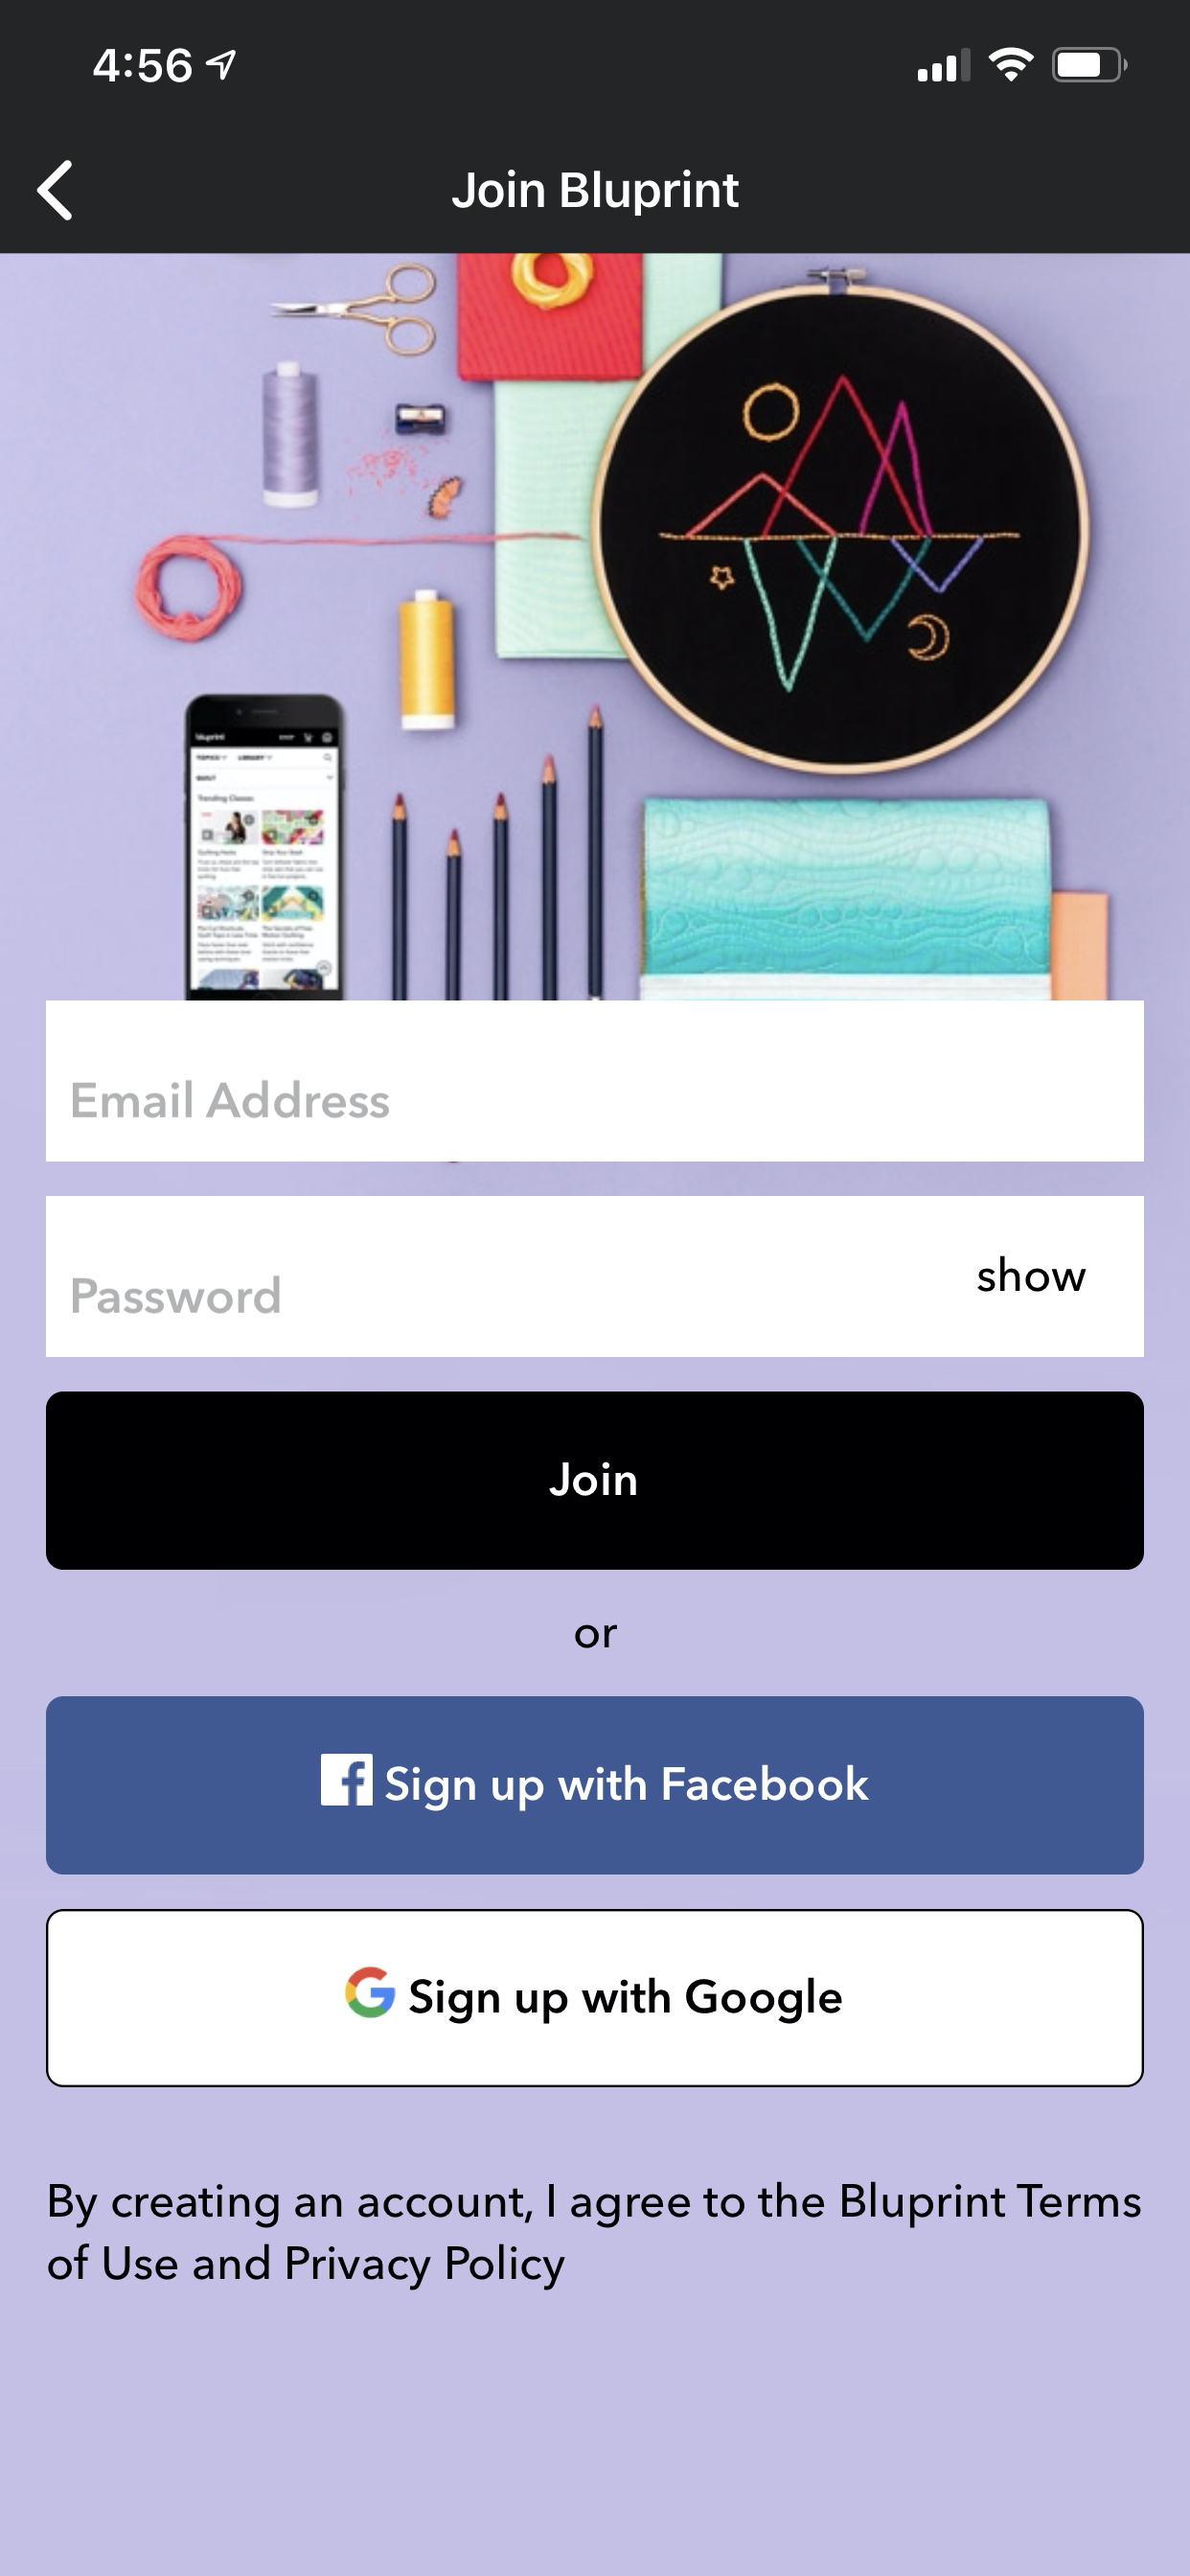BackgroundImage: (2, 255, 1190, 2576)
EditText: (46, 1196, 1144, 1357), (46, 1000, 1144, 1161)
Icon: (38, 159, 72, 222)
Text: (48, 2180, 1141, 2290), (452, 169, 738, 217), (72, 1079, 390, 1119), (72, 1275, 281, 1314), (978, 1255, 1086, 1291), (575, 1625, 616, 1648)
TextButton: (46, 1695, 1144, 1874), (46, 1391, 1144, 1571), (46, 1909, 1144, 2086)
UpperTaskBar: (95, 48, 1128, 84)
